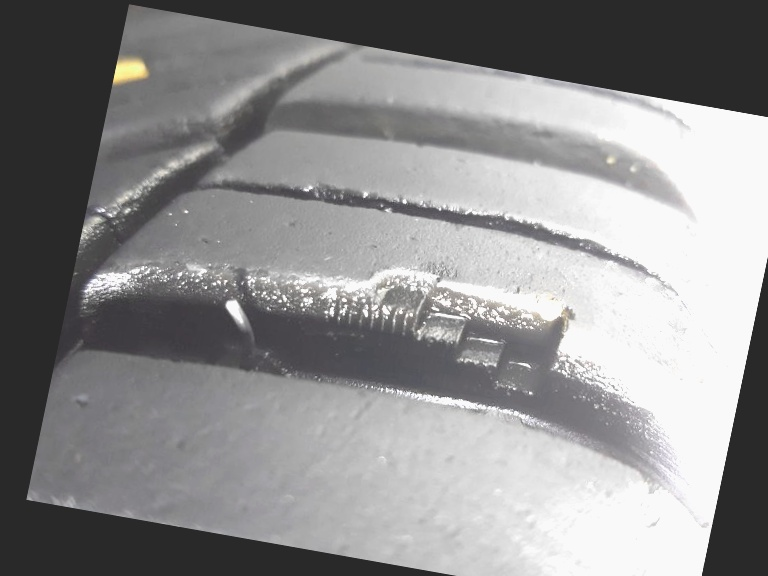temoin:80: (316, 253, 583, 419)
